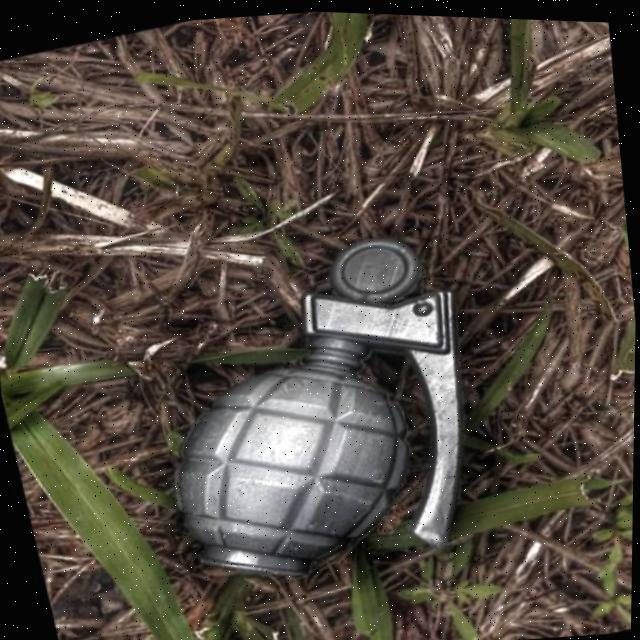grenade: (106, 209, 515, 613)
